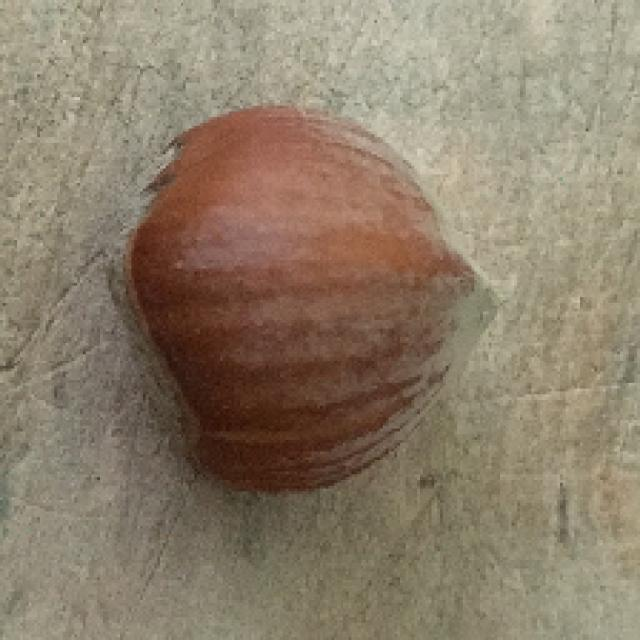qualityHazelnut: (101, 97, 504, 506)
